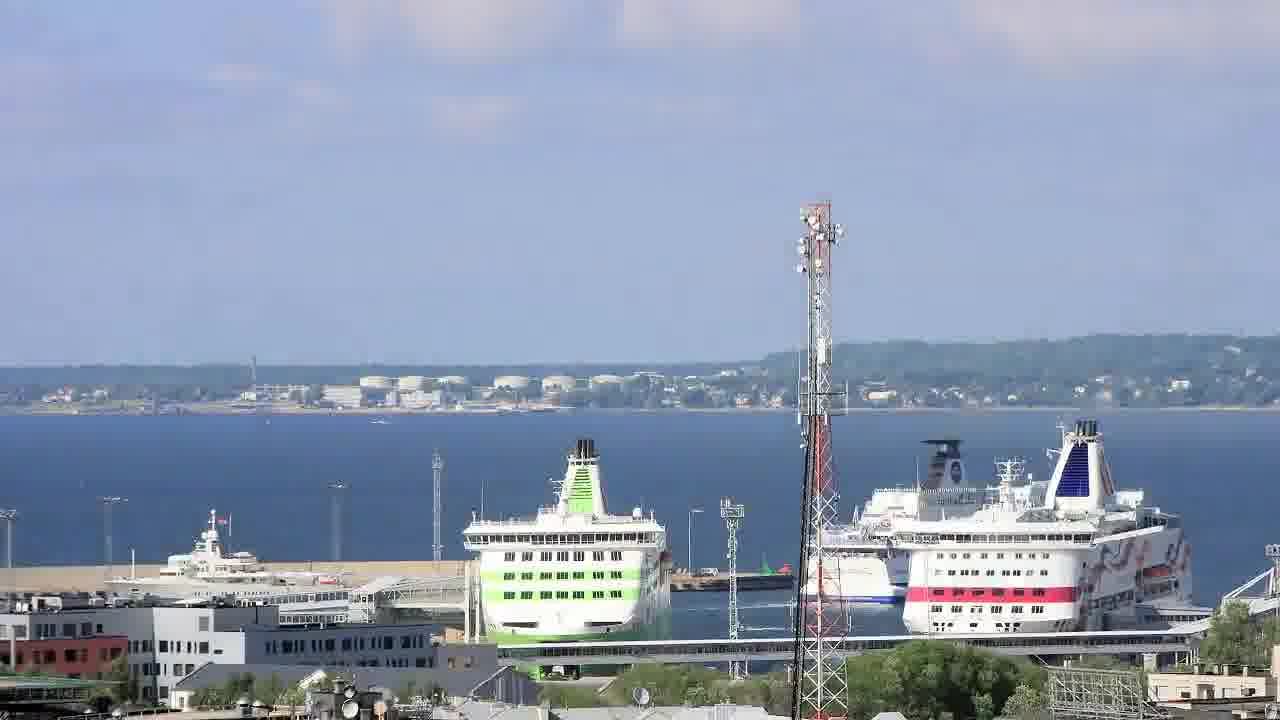type-3: (868, 415, 1225, 638), (436, 434, 694, 670), (799, 432, 990, 617), (81, 508, 375, 624)
